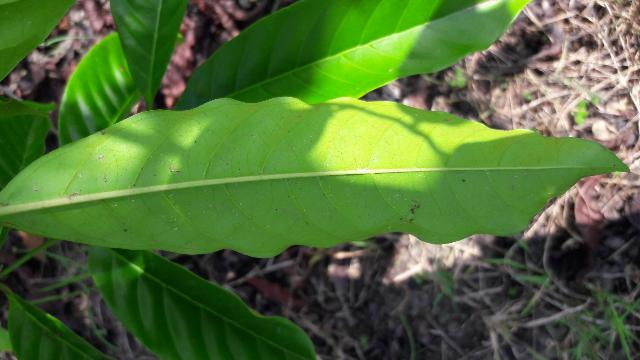healthy: (0, 97, 631, 261)
